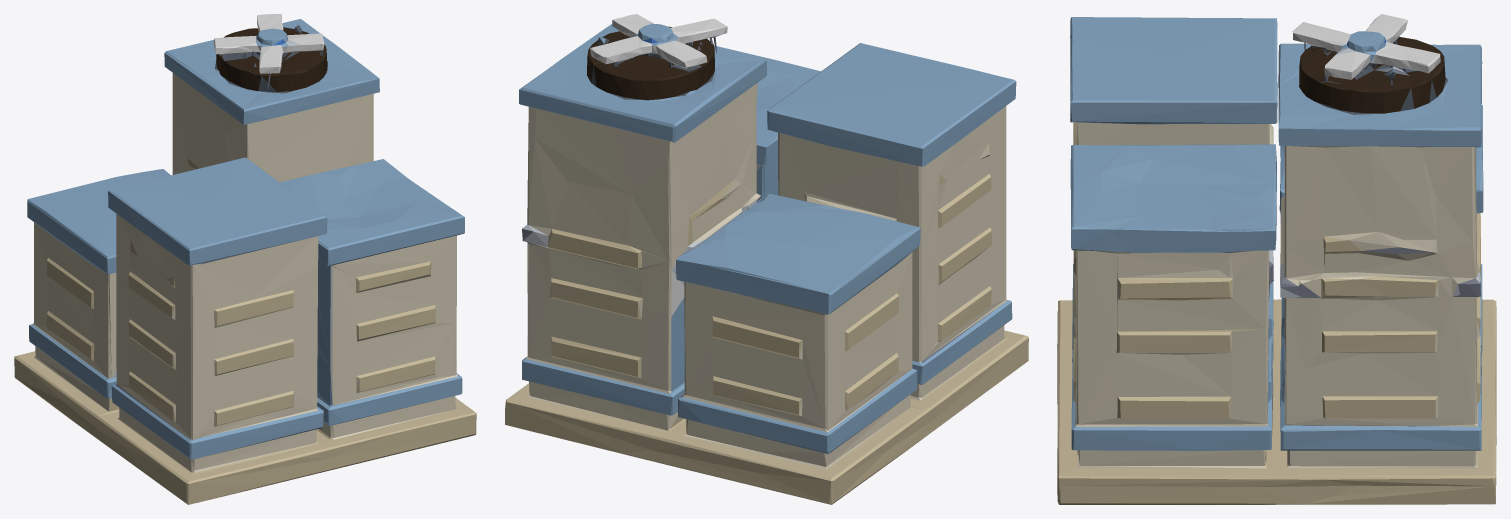
The model's file is cluster-hunyuan-A.glb.
3 views of the same model, side by side, from view 1: azimuth 30°, elevation 25°; view 2: azimuth 150°, elevation 25°; view 3: azimuth 270°, elevation 25° (orthographic). The views are drawn at different scales.
Parts seen in each view (by area): view 1: cluster; view 2: cluster; view 3: cluster.
Part boxes in pixels (x1,y1,x2,y2): cluster: (14,14,476,504); cluster: (505,14,1028,504); cluster: (1057,14,1496,504).
Size of the model in its own units: 1.74 by 1.9 by 1.81.
